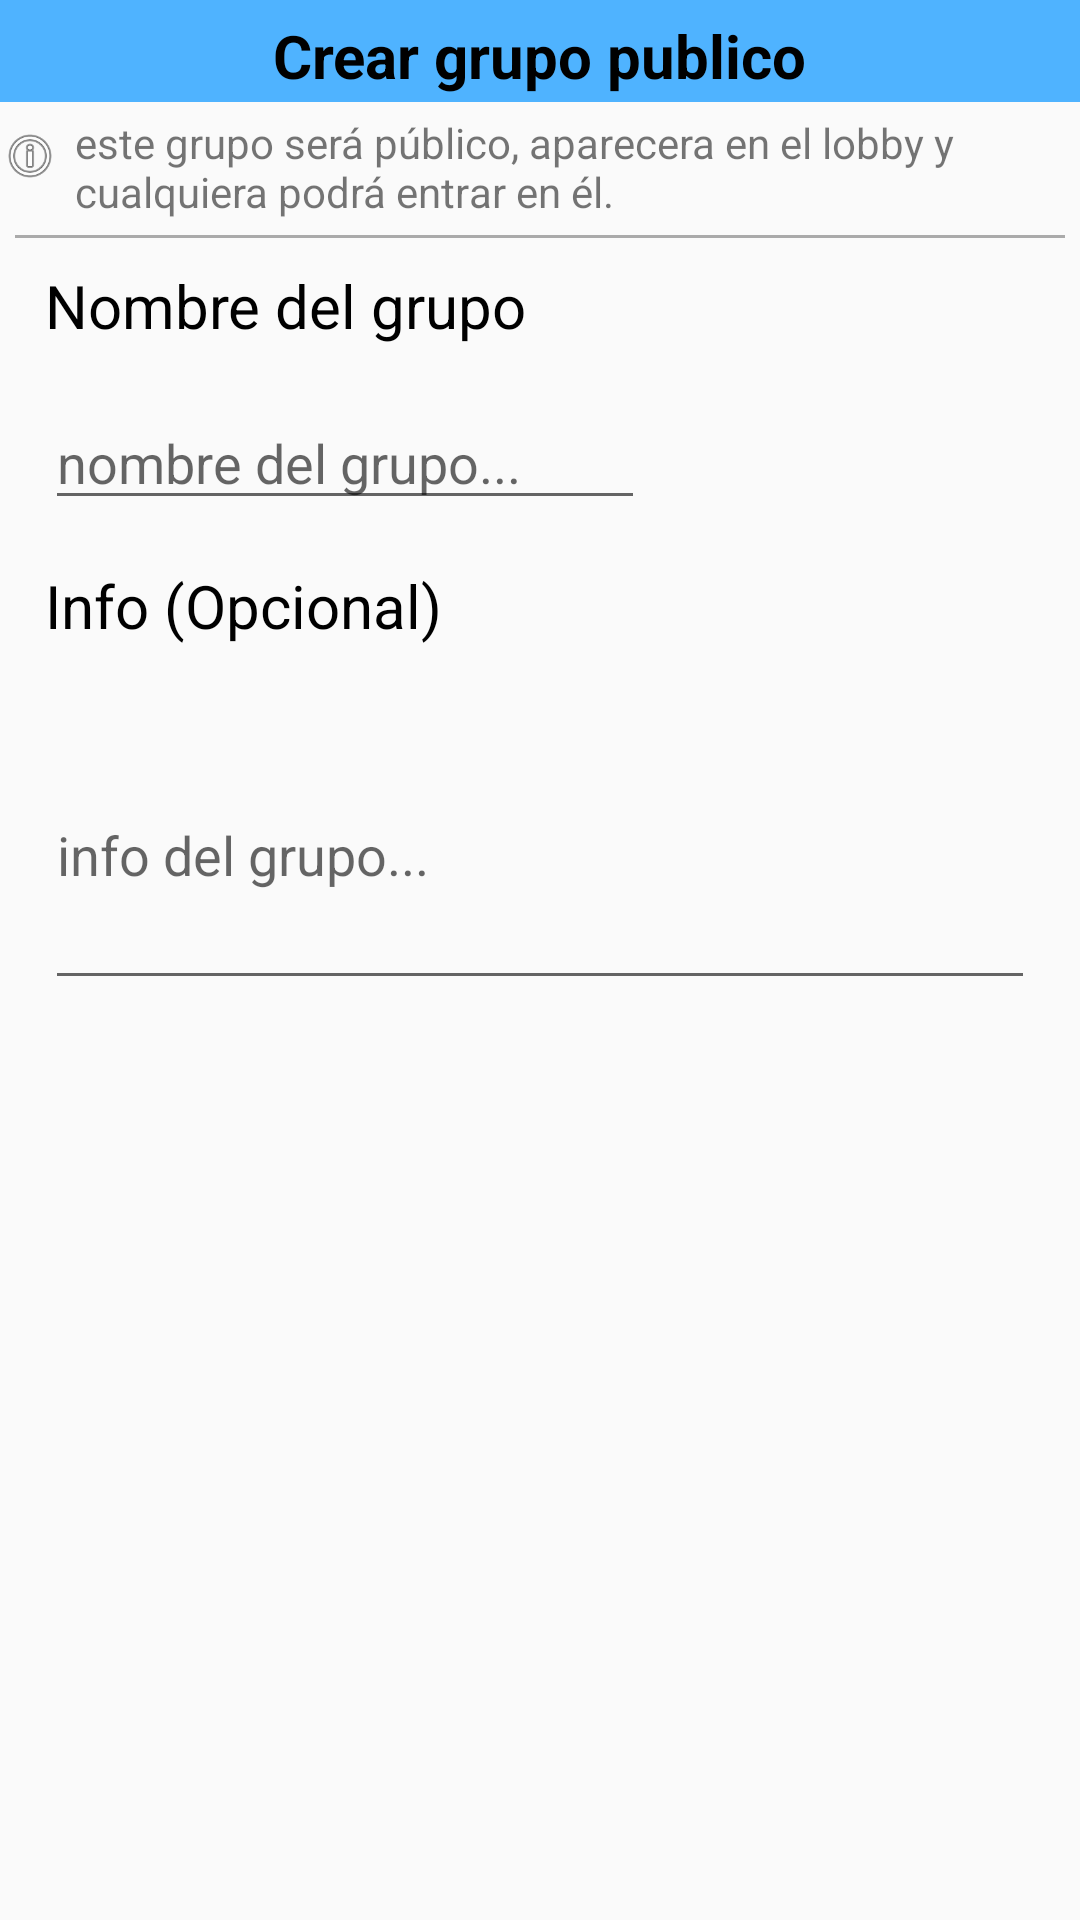

Screen size 1080×1920. Icon name, then its box in pixels as (x1, y1, x2, y2):
info details: (8, 134, 52, 178)
